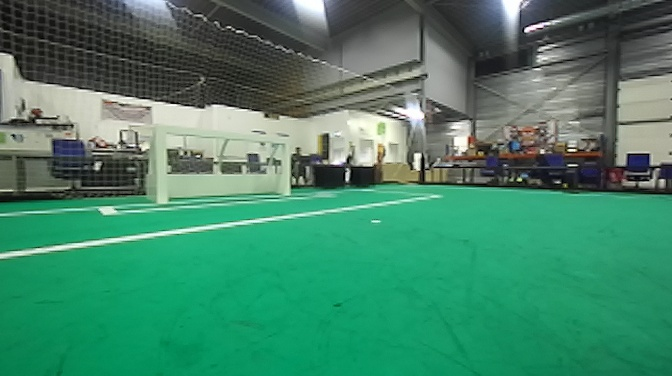goalpost: (147, 120, 174, 206), (275, 132, 292, 194)
